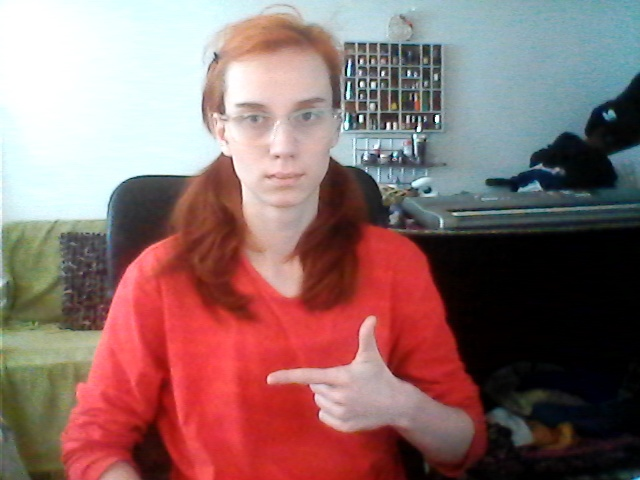dva_dve: (264, 314, 401, 432)
